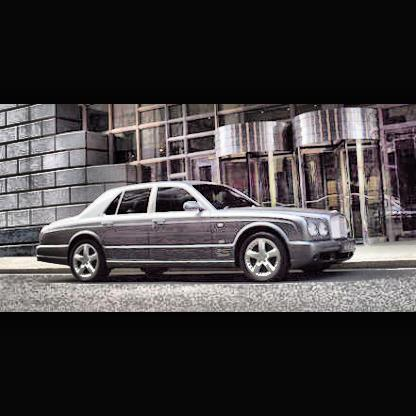Bentley Arnage Sedan 2009: (37, 175, 359, 286)
